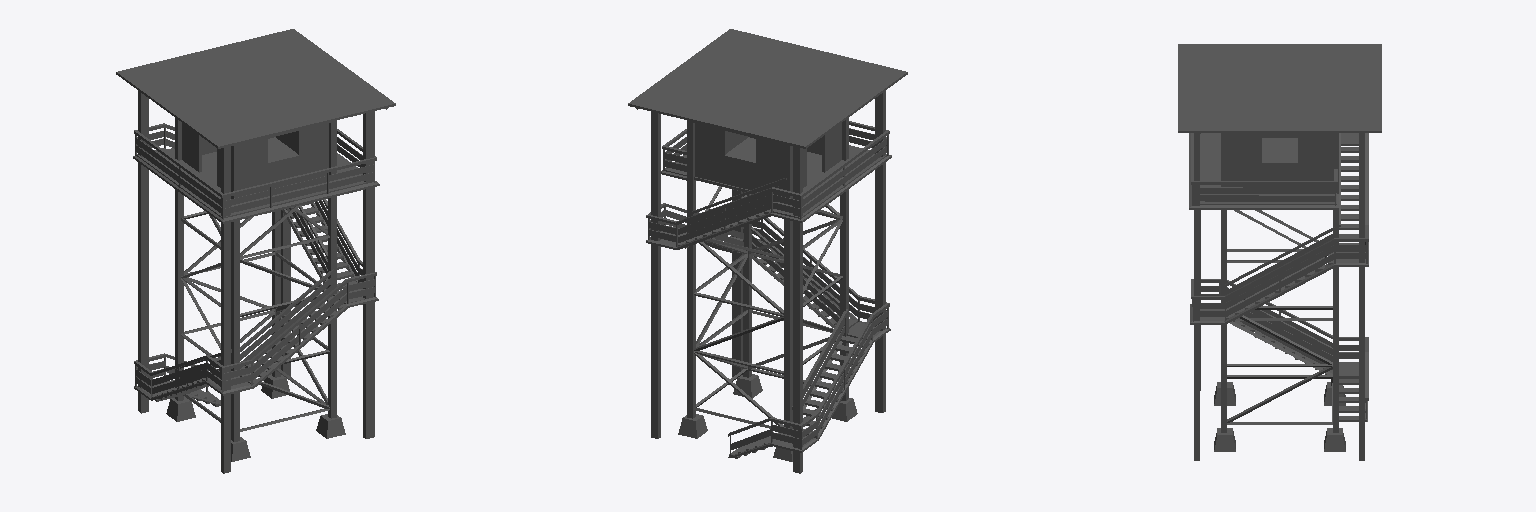
File: tower.obj
The picture shows the model from 3 angles: view 1: azimuth 30°, elevation 25°; view 2: azimuth 150°, elevation 25°; view 3: azimuth 270°, elevation 25°; orthographic projection.
Parts seen in each view (by area): view 1: watchtowerHigh_watchtower; view 2: watchtowerHigh_watchtower; view 3: watchtowerHigh_watchtower.
Part boxes in pixels (x1,y1,x2,y2): watchtowerHigh_watchtower: (116, 29, 395, 473); watchtowerHigh_watchtower: (628, 29, 907, 473); watchtowerHigh_watchtower: (1178, 44, 1381, 460).
Size of the model in its own units: 4.22 by 7.65 by 4.22.